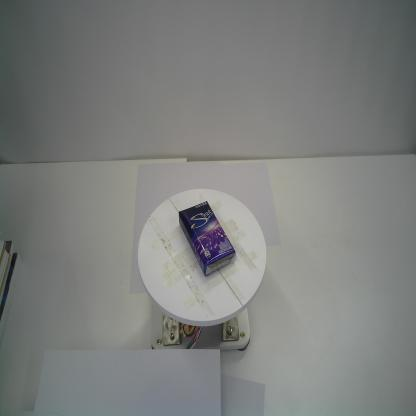Gum: (179, 201, 236, 277)
